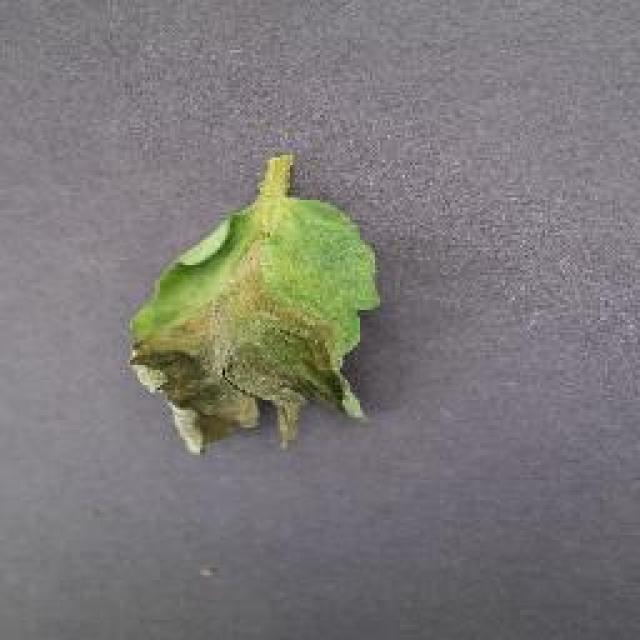Tomato late blight leaf: (132, 192, 384, 456)
